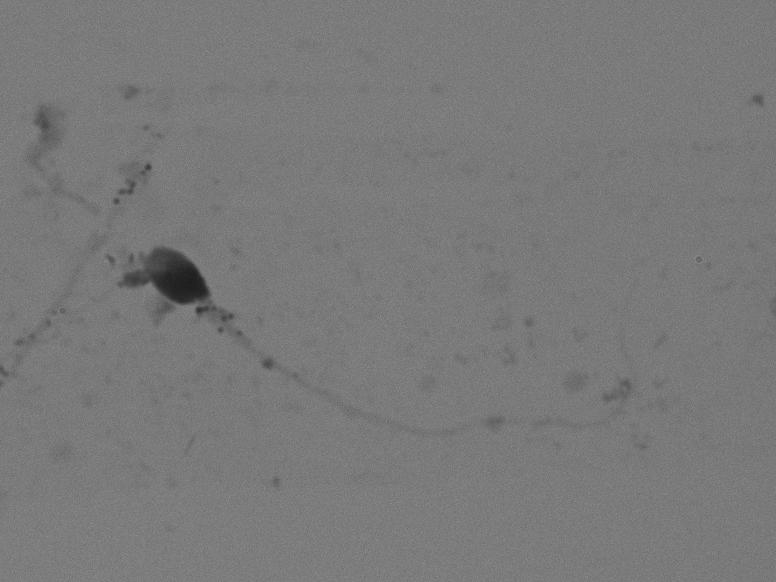Abnormal: (121, 192, 652, 471)
